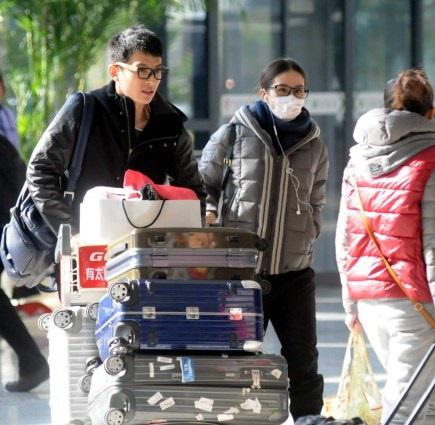NONE: (116, 57, 164, 104)
OK: (270, 80, 310, 120)
